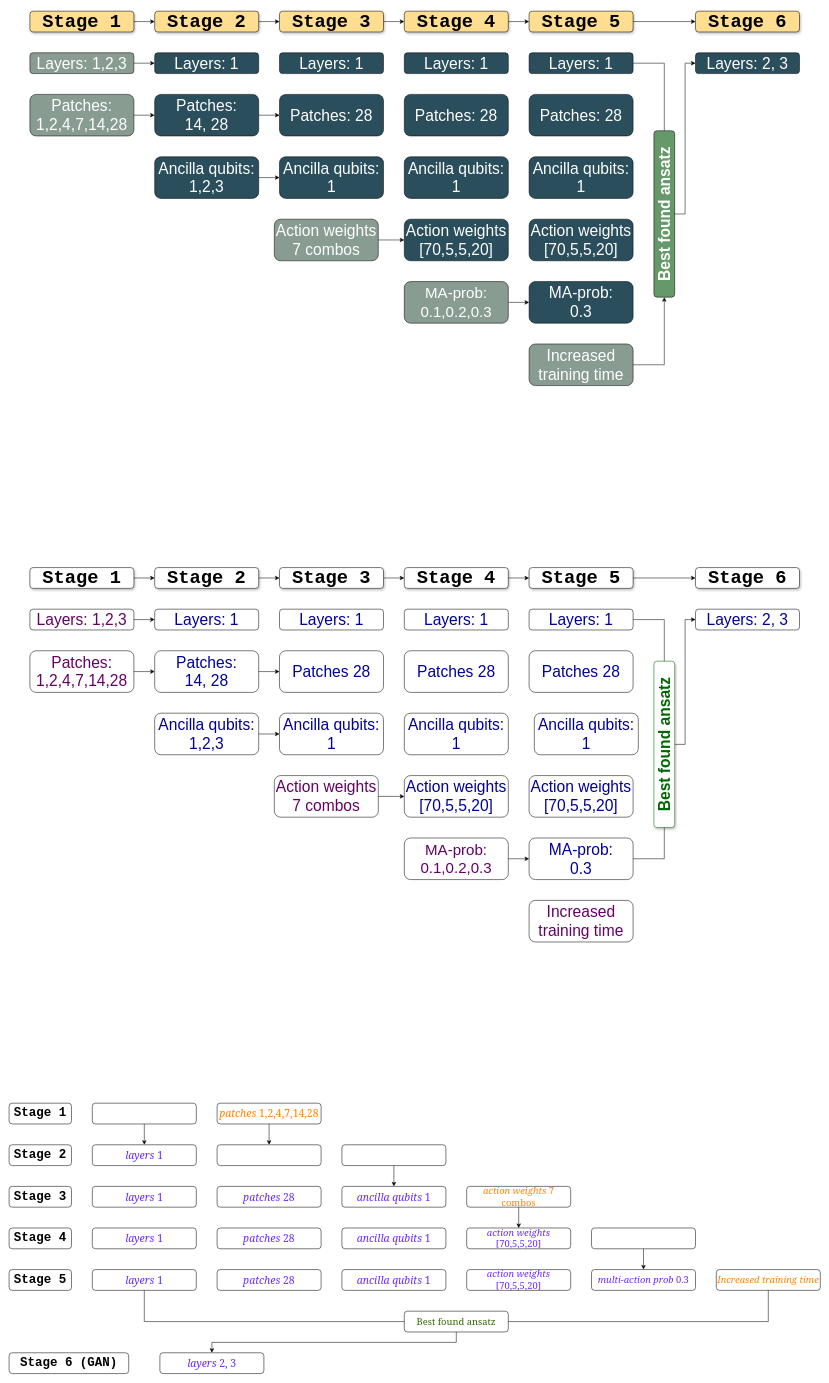
Image size: 829x1383. Some labels were removed from this diagram. Here are the shapes that lost their labels. From the top down, the centre of each, then its label:
At point (144, 1113): "layers 1,2,3".
At point (269, 1155): "patches 14, 28".
At point (393, 1155): "ancilla qubits 1,2,3".
At point (643, 1238): "multi-action prob 0.1,0.2,0.3".
